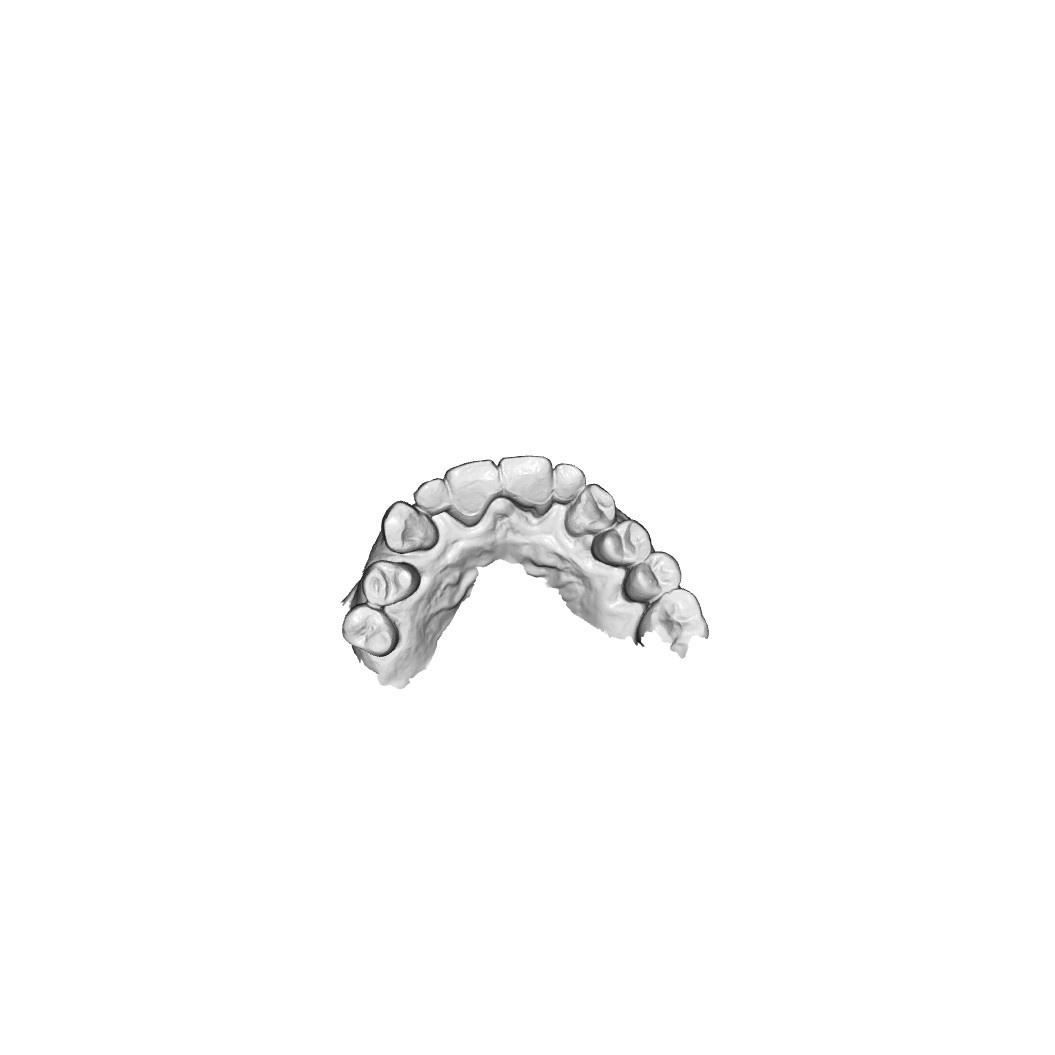canine: (381, 501, 440, 556), (564, 483, 616, 537)
incisor: (444, 458, 494, 527), (500, 454, 552, 516), (552, 461, 590, 509), (411, 478, 452, 514)
premolar: (339, 603, 400, 659), (622, 552, 682, 605), (592, 519, 653, 569), (361, 556, 420, 607)
